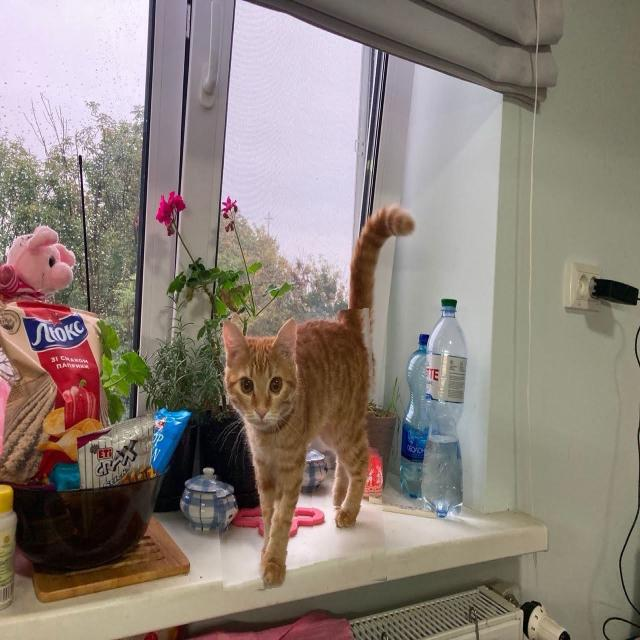red_cat: (208, 311, 382, 588)
